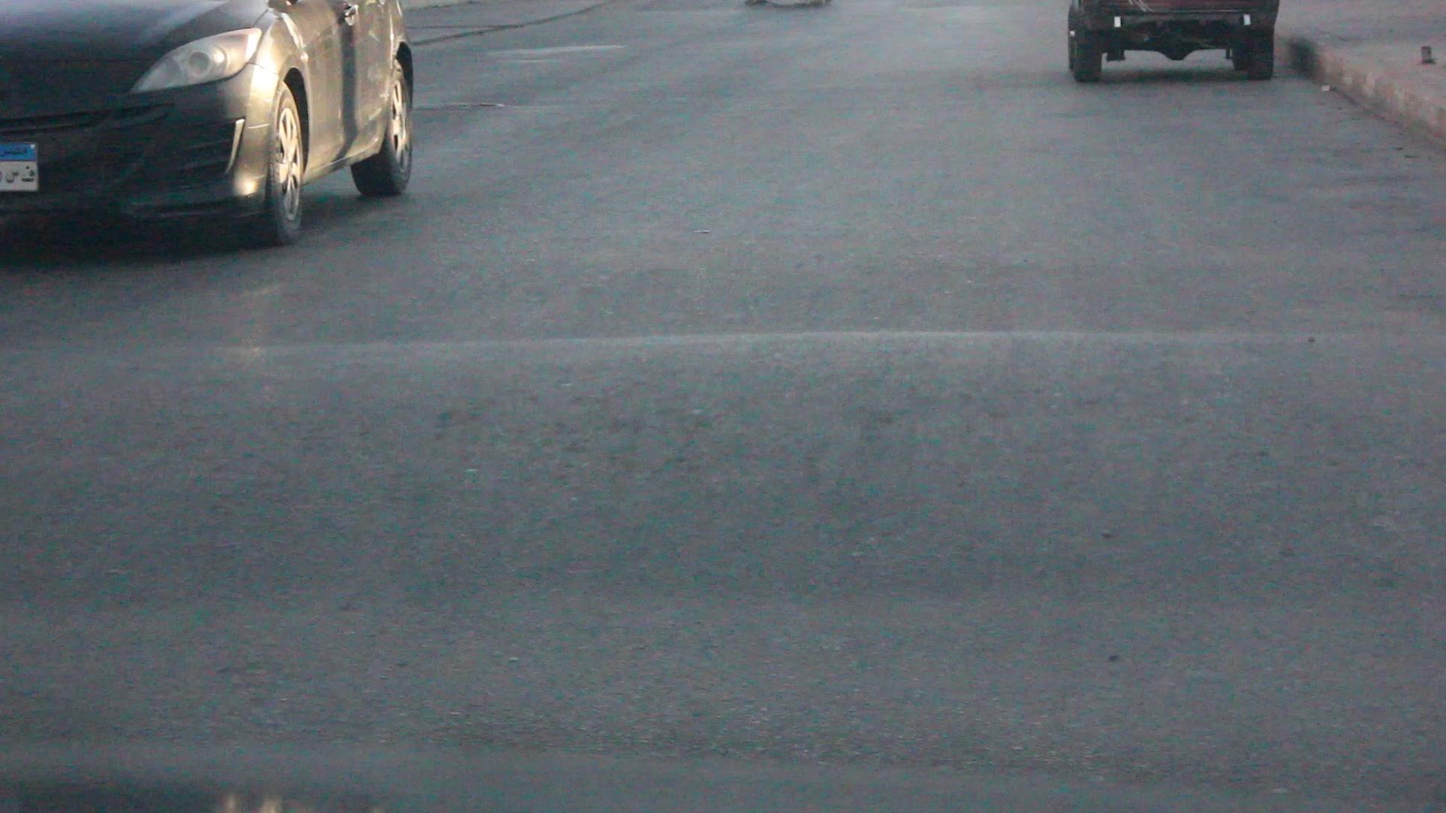Bump: (15, 346, 1446, 587)
